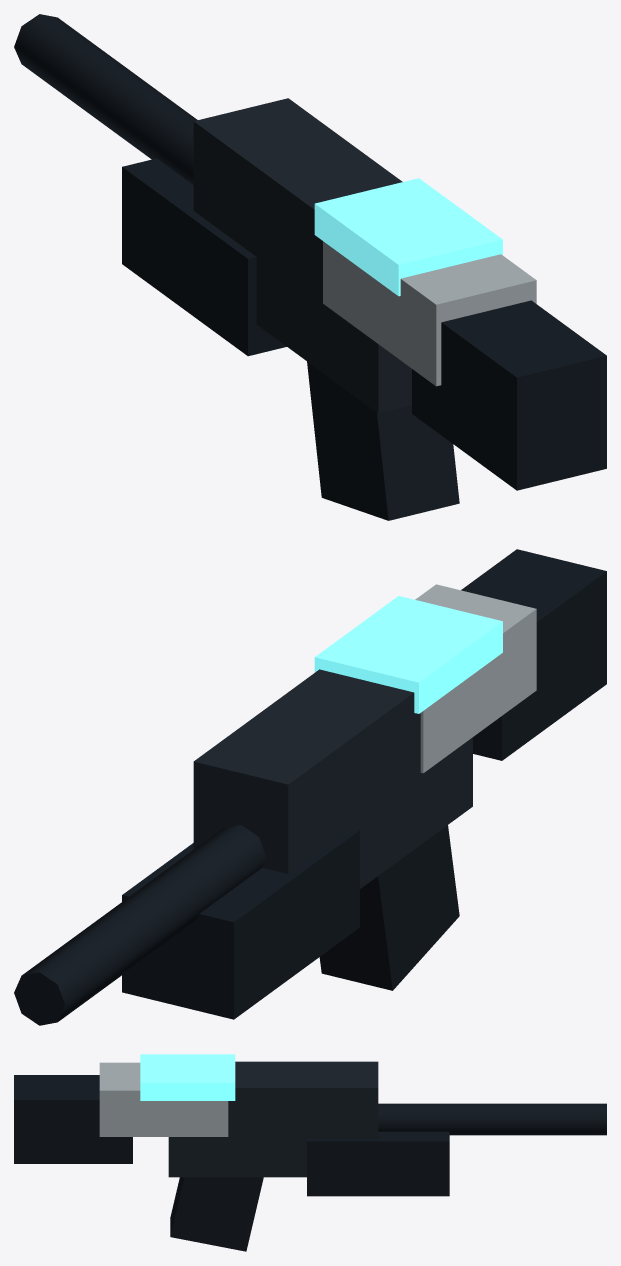
Rendered from np_z05_pompe_ameliore.glb.
The picture shows the model from 3 angles, top to bottom: view 1: azimuth 30°, elevation 25°; view 2: azimuth 150°, elevation 25°; view 3: azimuth 270°, elevation 25°; orthographic projection. The views are drawn at different scales.
Visible parts, largest first — view 1: Corps, Crosse, Pompe, Poignee, Culasse, ModuleAmeliore, Canon; view 2: Corps, Pompe, Canon, Crosse, ModuleAmeliore, Poignee, Culasse; view 3: Corps, Pompe, Crosse, Canon, Culasse, Poignee, ModuleAmeliore.
Part boxes in pixels (x1,y1,x2,y2): Corps: [193, 98, 411, 413]; Crosse: [412, 300, 606, 490]; Pompe: [122, 158, 286, 356]; Poignee: [307, 361, 459, 520]; Culasse: [323, 241, 536, 386]; ModuleAmeliore: [314, 178, 502, 296]; Canon: [14, 14, 197, 184]; Corps: [193, 669, 472, 888]; Pompe: [122, 828, 359, 1019]; Canon: [14, 825, 266, 1025]; Crosse: [461, 549, 606, 760]; ModuleAmeliore: [314, 596, 502, 713]; Poignee: [319, 825, 459, 990]; Culasse: [415, 584, 536, 773]; Corps: [168, 1061, 378, 1177]; Pompe: [307, 1131, 449, 1196]; Crosse: [14, 1075, 132, 1163]; Canon: [378, 1103, 606, 1135]; Culasse: [99, 1062, 228, 1136]; Poignee: [170, 1177, 263, 1251]; ModuleAmeliore: [140, 1054, 235, 1100].
Size of the model in its own units: 0.1416 by 0.3692 by 1.15.
